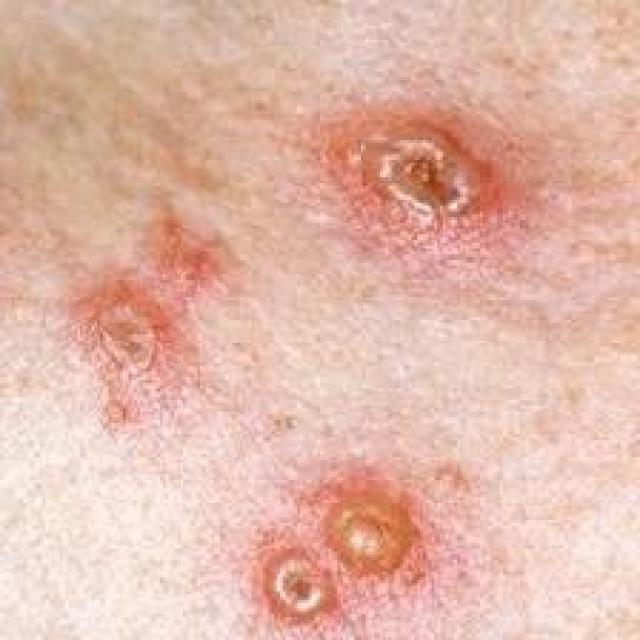others: (34, 77, 563, 640)
